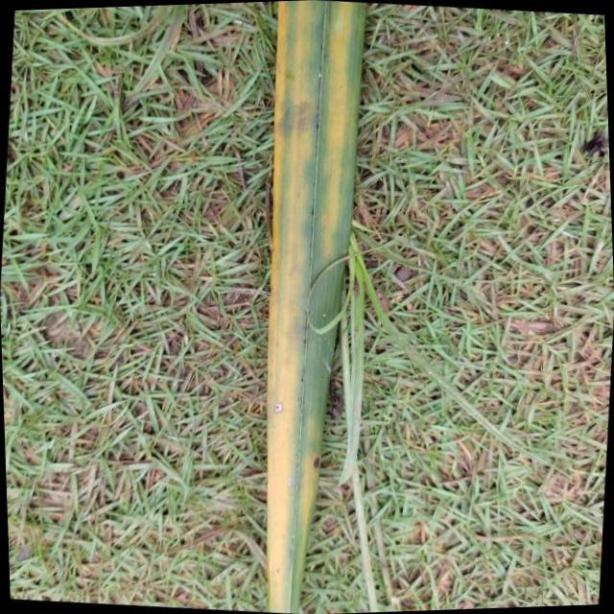Megnesium: (261, 0, 366, 614)
